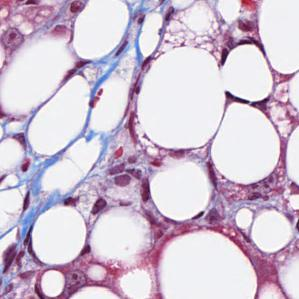inflammation: (105, 153, 145, 190)
